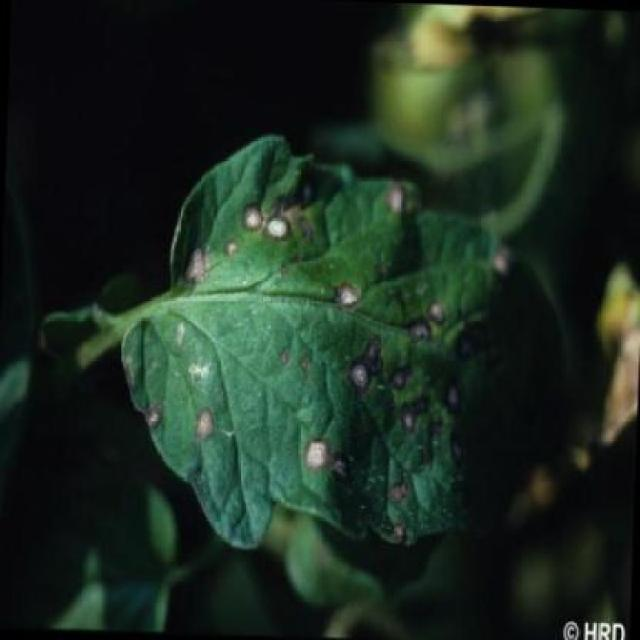Septoria leaf spot: (62, 129, 598, 596)
